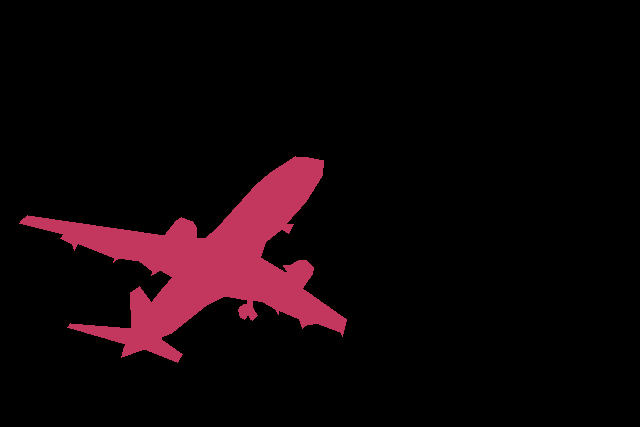Airplane: (19, 156, 347, 362)
